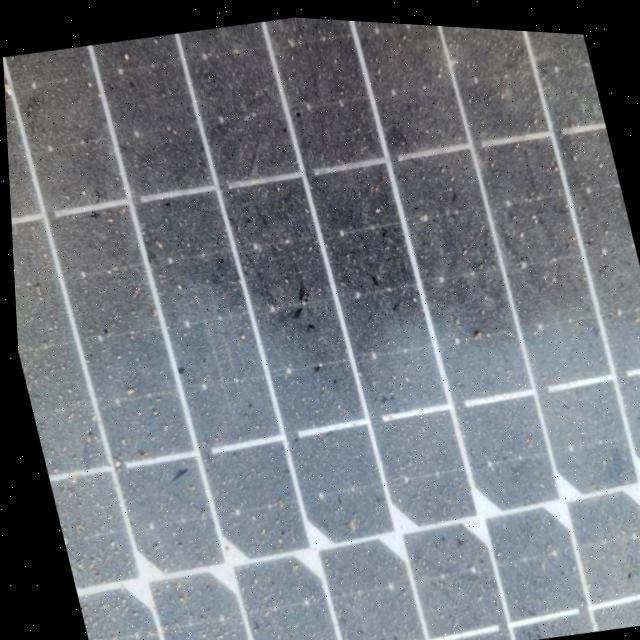Surface Contaminant: (2, 13, 640, 640)
